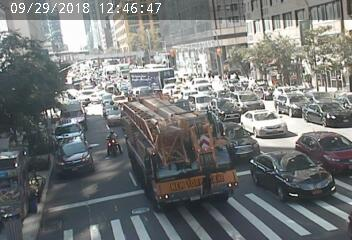car: (140, 109, 212, 185), (277, 159, 319, 190), (60, 146, 92, 163), (246, 110, 272, 126), (312, 102, 335, 120), (65, 101, 91, 116), (311, 134, 336, 149), (279, 92, 301, 108), (230, 95, 258, 105), (58, 123, 83, 133), (142, 75, 167, 85), (105, 107, 121, 117), (194, 97, 210, 105), (199, 82, 211, 92), (182, 90, 194, 93)
